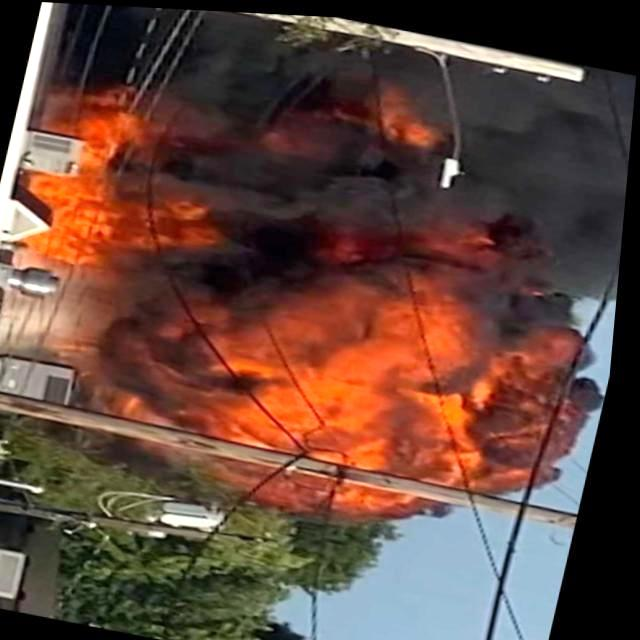fire: (2, 32, 614, 512)
